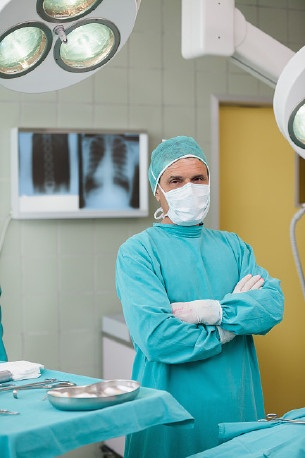Mask: (156, 165, 220, 229)
